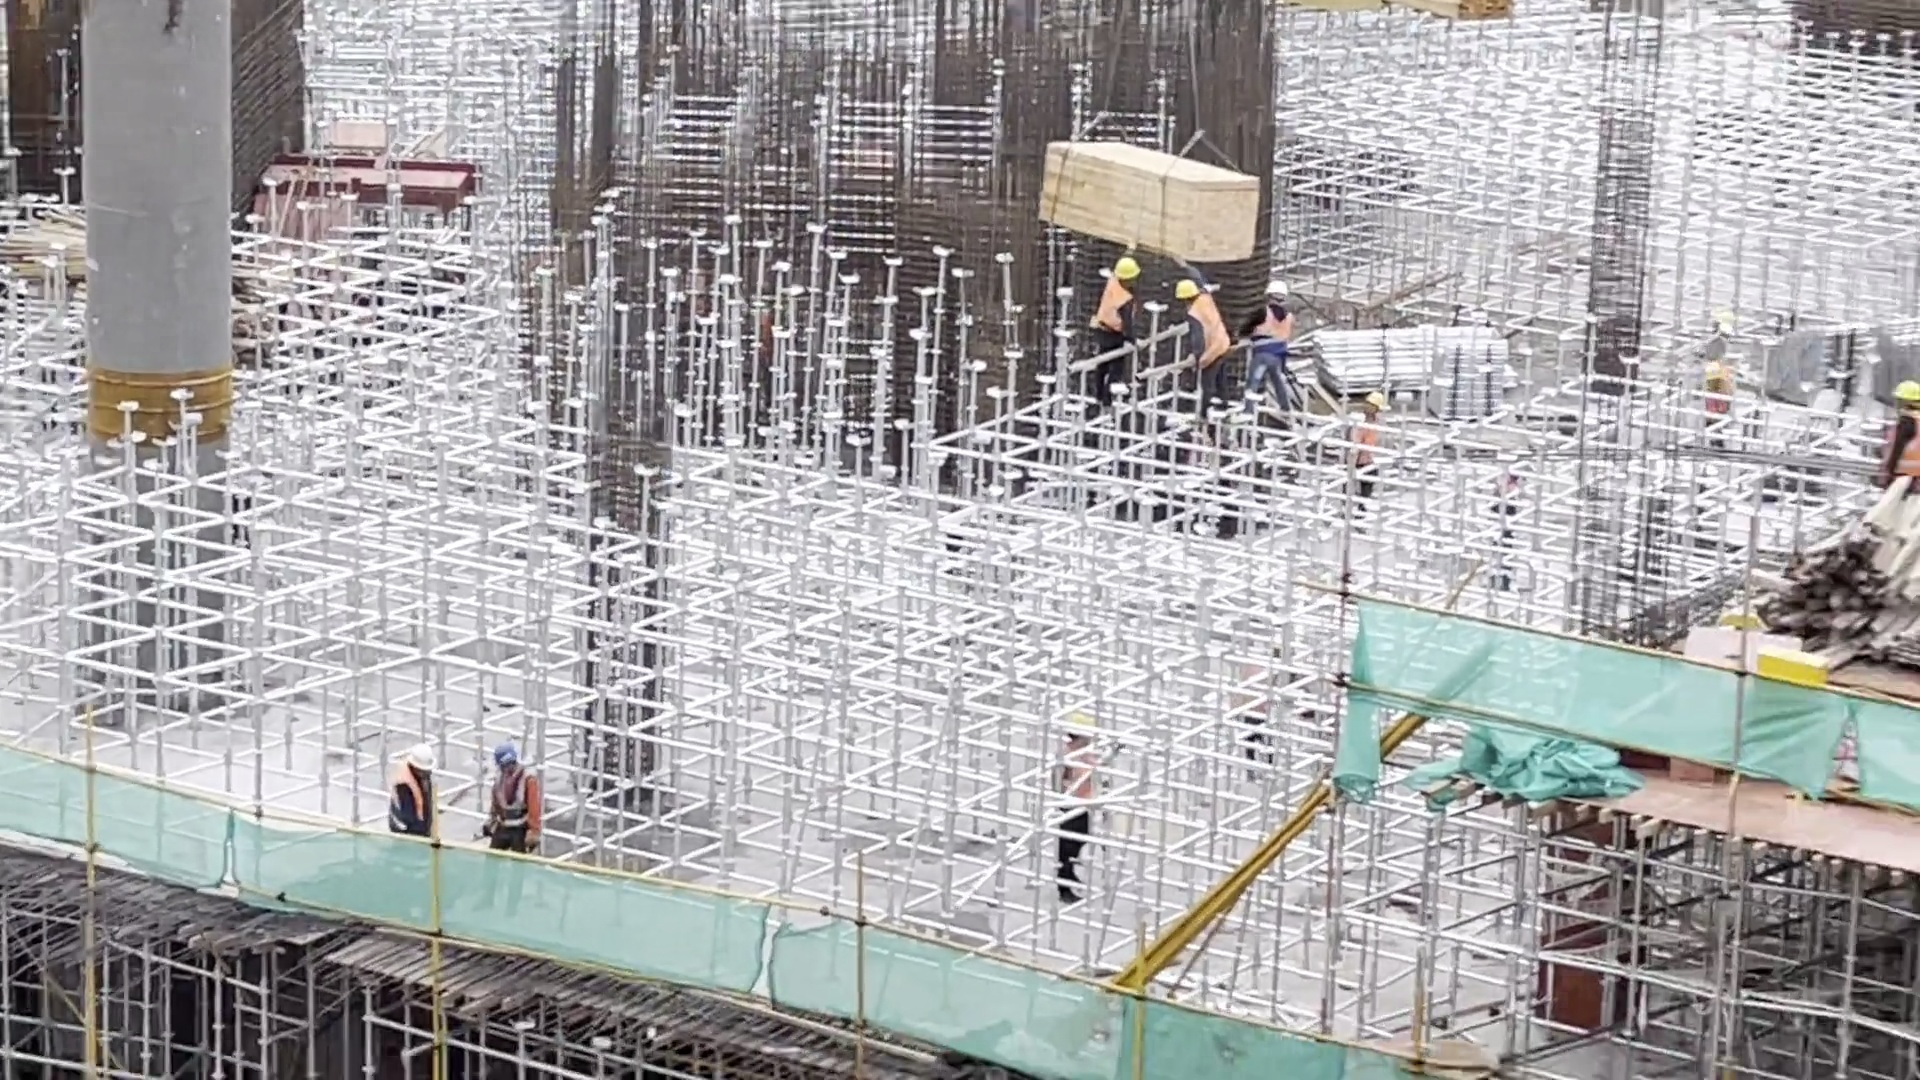helmet: (409, 743, 439, 774), (1892, 375, 1919, 407), (1113, 254, 1142, 281), (491, 746, 516, 771), (1172, 279, 1198, 302), (1366, 385, 1384, 410)
person: (1160, 246, 1231, 426), (482, 743, 544, 910), (1049, 719, 1100, 905), (1089, 236, 1140, 414), (1240, 279, 1293, 419), (1344, 388, 1386, 514), (384, 739, 433, 843), (1884, 379, 1920, 491)
vest: (490, 772, 545, 846), (1187, 295, 1232, 369), (388, 772, 436, 838), (1093, 277, 1135, 342), (1252, 304, 1294, 364), (1885, 410, 1920, 480)
